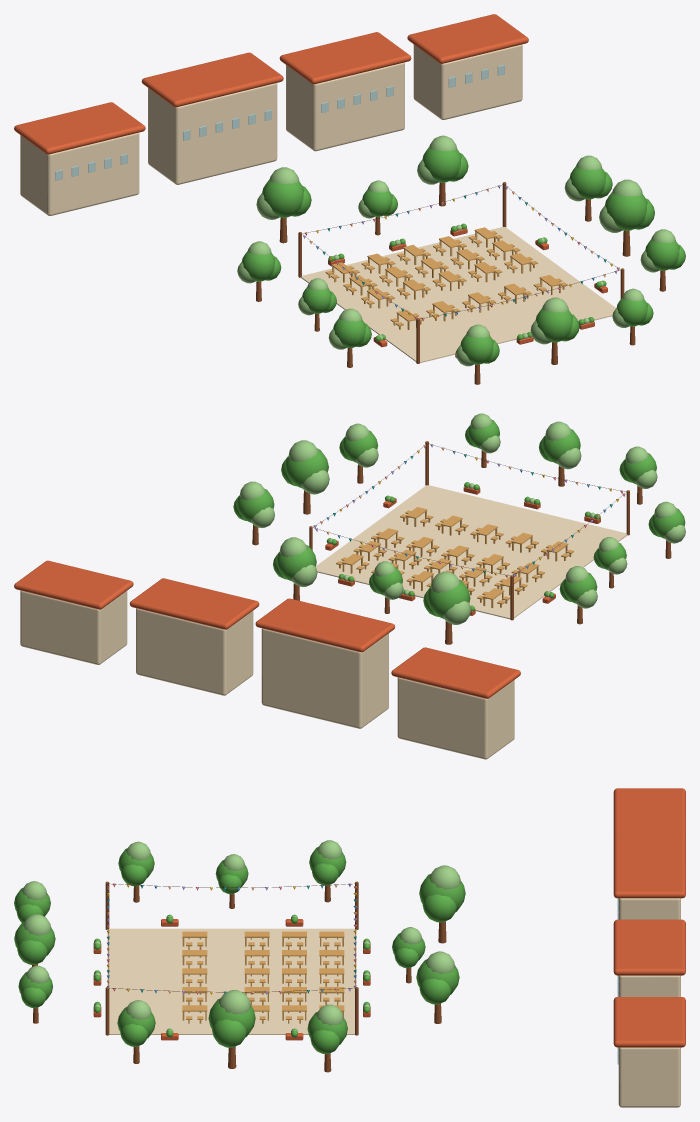
Rendered from cafe.glb.
3 renders of one model, top to bottom at view 1: azimuth 30°, elevation 25°; view 2: azimuth 150°, elevation 25°; view 3: azimuth 270°, elevation 25°, orthographic. The views are drawn at different scales.
Visible parts, largest first — view 1: Floor-col.006, Block1.002, Block2.002, Block0.002, Block3.001, Block1Roof.002, Block0Roof.002, Block2Roof.002, Block3Roof.001, TableChair.004, TableChair.006, TableChair.007 (+13 smaller); view 2: Floor-col.006, Block1.002, Block2.002, Block0.002, Block3.001, Block1Roof.002, Block0Roof.002, Block2Roof.002, Block3Roof.001, TableChair.007, TableChair.004, TableChair.005 (+10 smaller); view 3: Floor-col.006, Block1Roof.002, Block2Roof.002, Block3.001, Block3Roof.001, Block0Roof.002, TableChair.007, TableChair.005, Block1.002, Block2.002, TableChair.004, TableChair.006 (+14 smaller).
Boxes of the visible parts, x1,y1,x2,y2 form: Floor-col.006: (301,227,615,362); Block1.002: (148,83,277,184); Block2.002: (286,62,404,151); Block0.002: (20,132,139,215); Block3.001: (413,44,522,119); Block1Roof.002: (141,52,283,107); Block0Roof.002: (14,102,145,154); Block2Roof.002: (279,32,411,84); Block3Roof.001: (407,14,528,63); TableChair.004: (361,253,537,308); TableChair.006: (325,227,502,282); TableChair.007: (390,275,567,329); Floor-col.006: (316,485,627,619); Block1.002: (261,628,388,728); Block2.002: (136,608,253,695); Block0.002: (397,677,514,759); Block3.001: (20,590,127,664); Block1Roof.002: (255,598,394,652); Block0Roof.002: (391,647,520,698); Block2Roof.002: (129,578,259,629); Block3Roof.001: (14,560,133,609); TableChair.007: (400,507,573,561); TableChair.004: (371,528,544,582); TableChair.005: (353,541,527,595); Floor-col.006: (107,928,356,1034); Block1Roof.002: (613,837,685,898); Block2Roof.002: (613,919,685,975); Block3.001: (618,1047,680,1107); Block3Roof.001: (613,997,685,1047); Block0Roof.002: (613,788,685,839); TableChair.007: (182,931,207,1023); TableChair.005: (282,931,306,1023); Block1.002: (618,898,680,919); Block2.002: (618,975,680,996); TableChair.004: (244,931,269,1023); TableChair.006: (319,931,344,1017).
Size of what is drawn, in the model's own units: 47.3 by 8.1 by 53.89.
